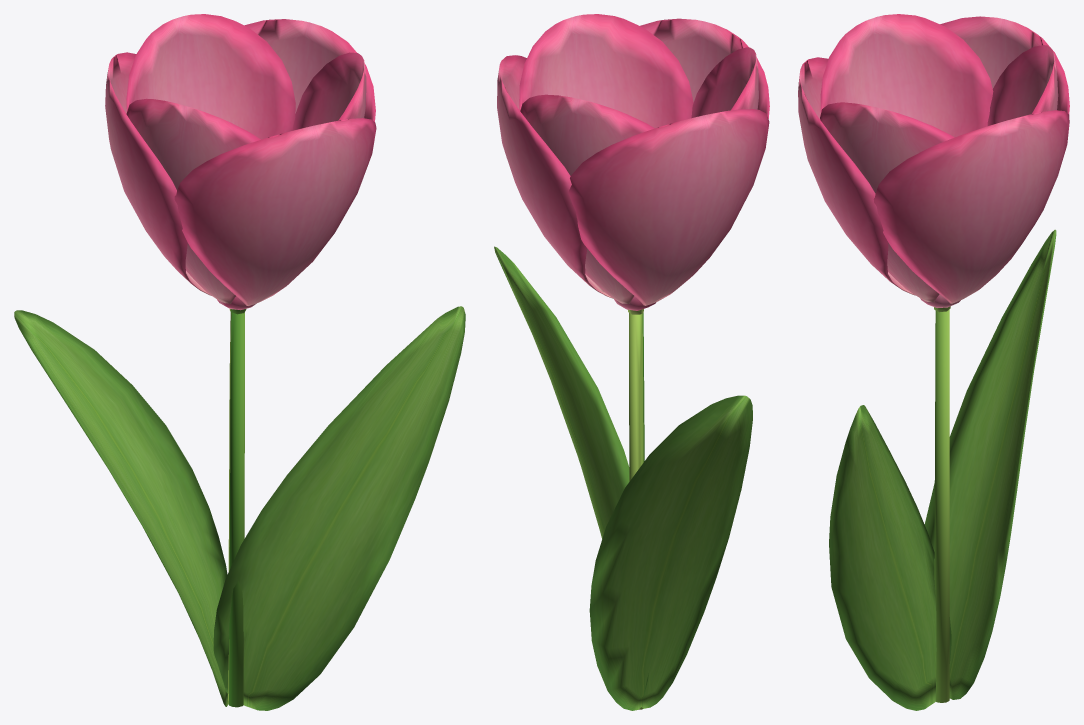
File: NP_Tulip_Ready_LOD1.fbx
The picture shows the model from 3 angles, left to right: view 1: azimuth 30°, elevation 25°; view 2: azimuth 150°, elevation 25°; view 3: azimuth 270°, elevation 25°; orthographic projection.
Visible parts, largest first — view 1: NP_Tulip_Ready; view 2: NP_Tulip_Ready; view 3: NP_Tulip_Ready.
Boxes of the visible parts, x1,y1,x2,y2 form: NP_Tulip_Ready: (14, 14, 465, 710); NP_Tulip_Ready: (494, 14, 769, 710); NP_Tulip_Ready: (798, 14, 1069, 710).
Size of the model in its own units: 53.88 by 94.69 by 36.03.
